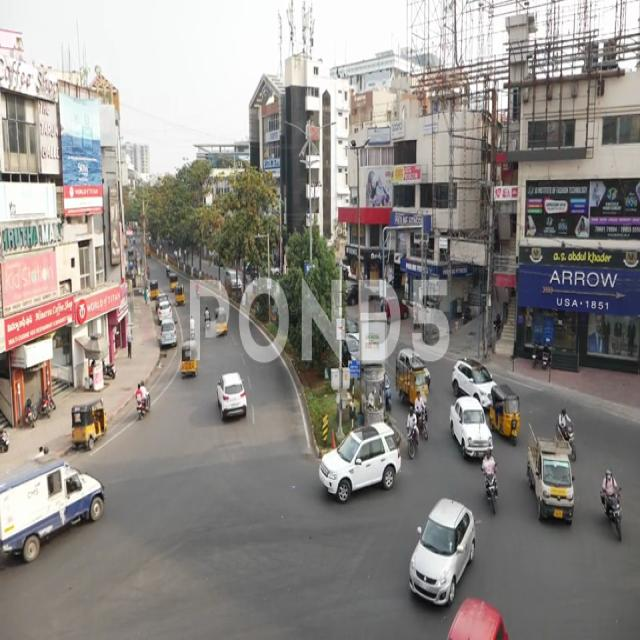cab: (448, 402, 490, 463)
car: (317, 422, 403, 510), (407, 496, 474, 604), (215, 366, 250, 426)
motorbike: (601, 461, 627, 544), (131, 374, 154, 420), (484, 448, 495, 518), (406, 408, 420, 462)
rikshaw: (494, 390, 522, 444), (180, 340, 200, 385)
truck: (0, 472, 110, 552), (534, 436, 571, 532)
